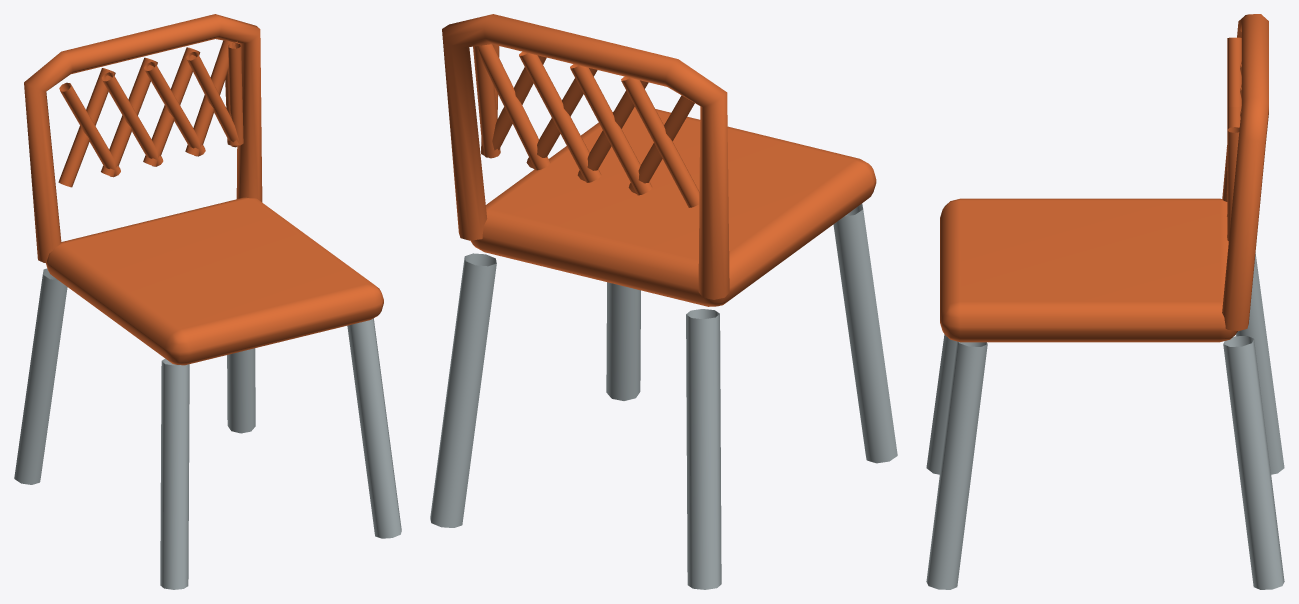
File: prod-1773061941304-nz7fa.glb
3 views of the same model, side by side, from view 1: azimuth 30°, elevation 25°; view 2: azimuth 150°, elevation 25°; view 3: azimuth 270°, elevation 25° (orthographic). The views are drawn at different scales.
Visible parts, largest first — view 1: Upholstered seat.014, Chair leg.048; view 2: Upholstered seat.014, Chair leg.048; view 3: Upholstered seat.014, Chair leg.048.
Part boxes in pixels (x1,y1,x2,y2): Upholstered seat.014: (24,14,383,365); Chair leg.048: (14,268,401,589); Upholstered seat.014: (442,14,876,306); Chair leg.048: (430,203,897,589); Upholstered seat.014: (940,14,1268,342); Chair leg.048: (926,253,1284,589).
Size of the model in its own units: 0.47 by 0.8 by 0.55.
